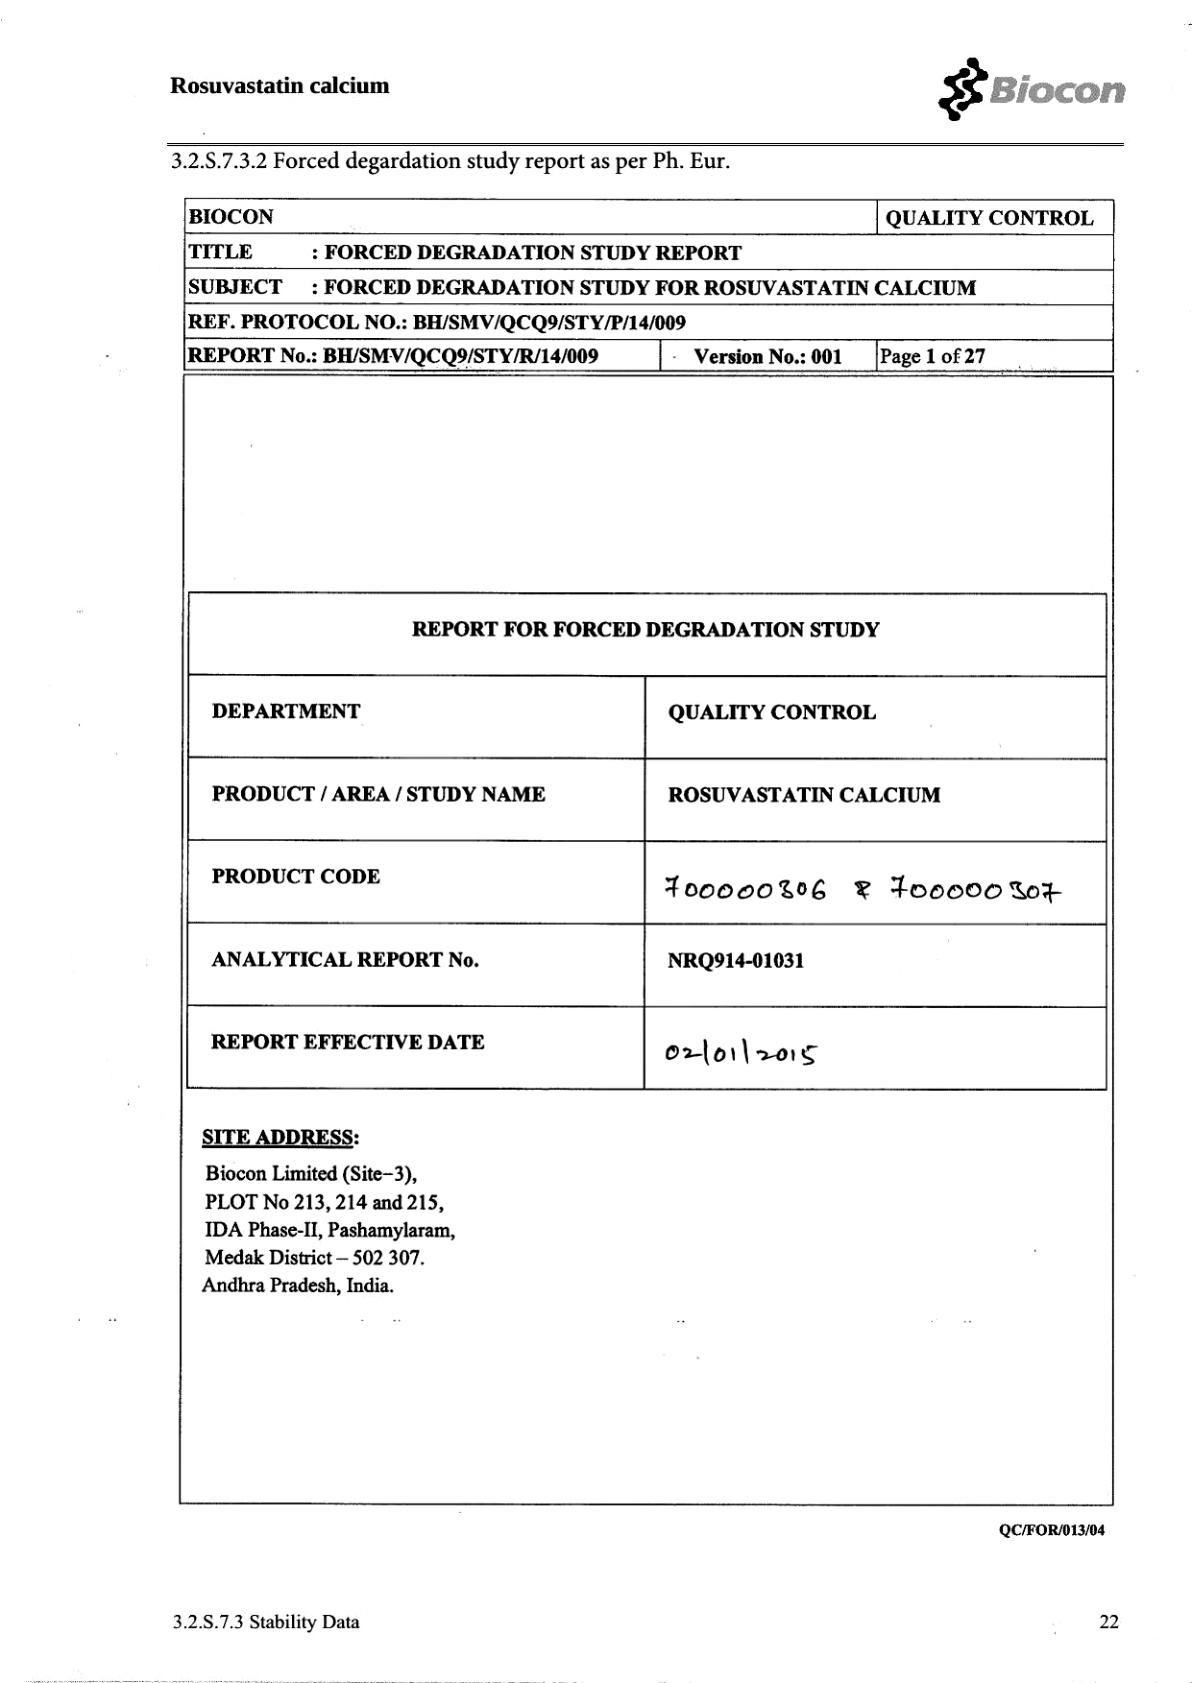merged_cells: (186, 589, 1108, 1090), (182, 197, 1115, 373)
